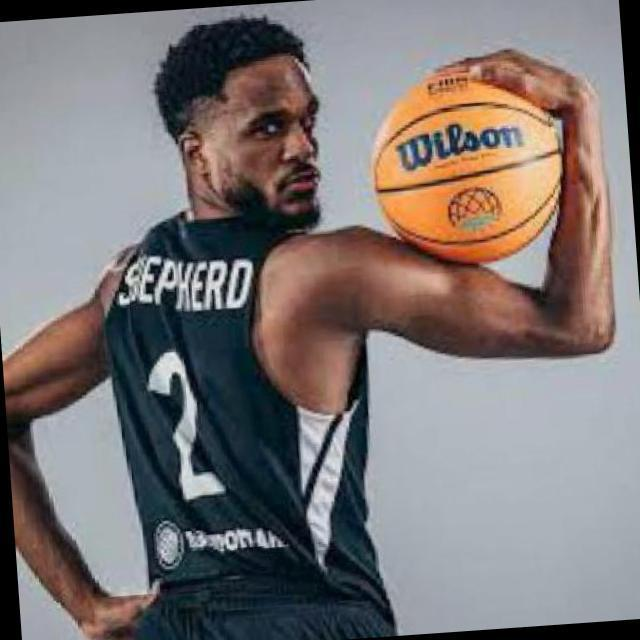ball: (368, 60, 568, 266)
